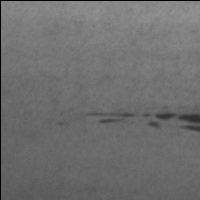inclusion: (78, 107, 200, 137)
